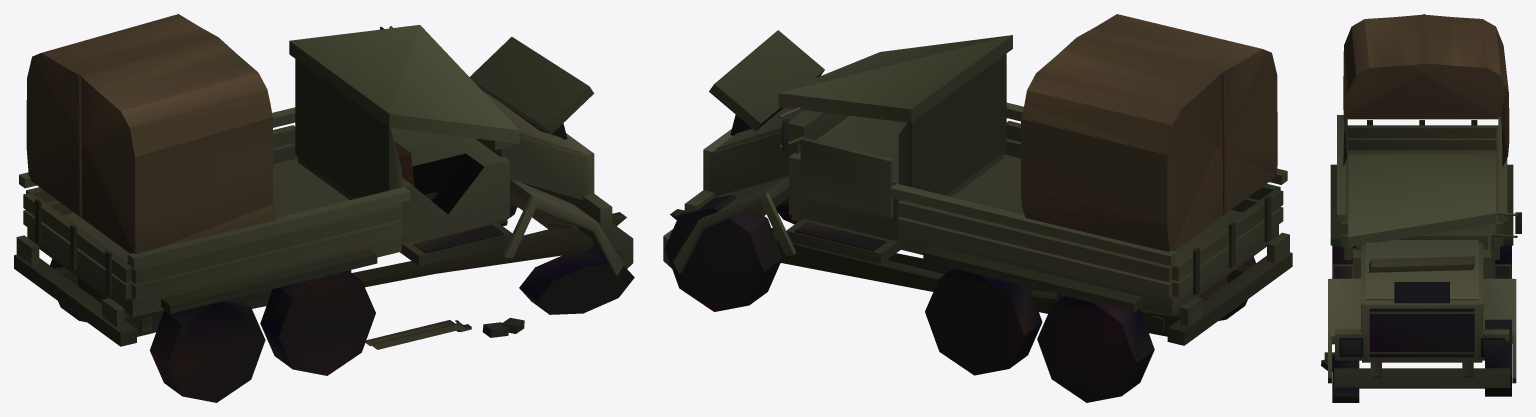
The model's file is veh.military-truck.wrecked.lod2.glb.
3 renders of one model, left to right at view 1: azimuth 30°, elevation 25°; view 2: azimuth 150°, elevation 25°; view 3: azimuth 270°, elevation 25°, orthographic. The views are drawn at different scales.
Parts seen in each view (by area): view 1: body, wheelRL, object 4, wheelFL; view 2: body, wheelRR, object 4, wheelFR; view 3: body, wheelFR, wheelFL, object 4.
Boxes of the visible parts, x1,y1,x2,y2 form: body: (14,14,633,349); wheelRL: (149,297,265,402); object 4: (260,270,375,375); wheelFL: (519,250,634,314); body: (663,14,1292,345); wheelRR: (1037,296,1154,402); object 4: (925,268,1042,375); wheelFR: (665,195,782,311); body: (1321,14,1521,388); wheelFR: (1485,319,1511,396); wheelFL: (1332,355,1359,402); object 4: (1332,245,1511,278).
Size of the model in its own units: 6.47 by 3.55 by 2.89.
